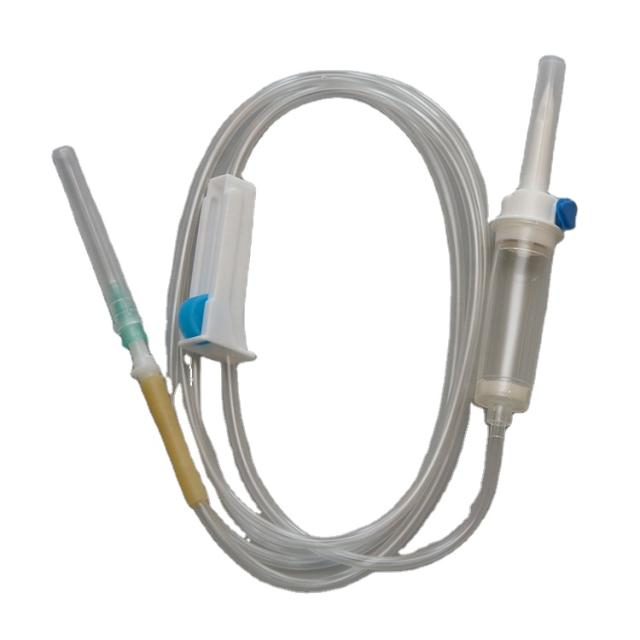B3: (36, 49, 608, 593)
